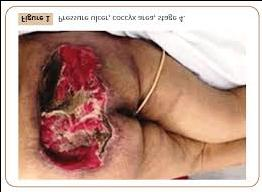Stage4: (23, 44, 124, 167)
